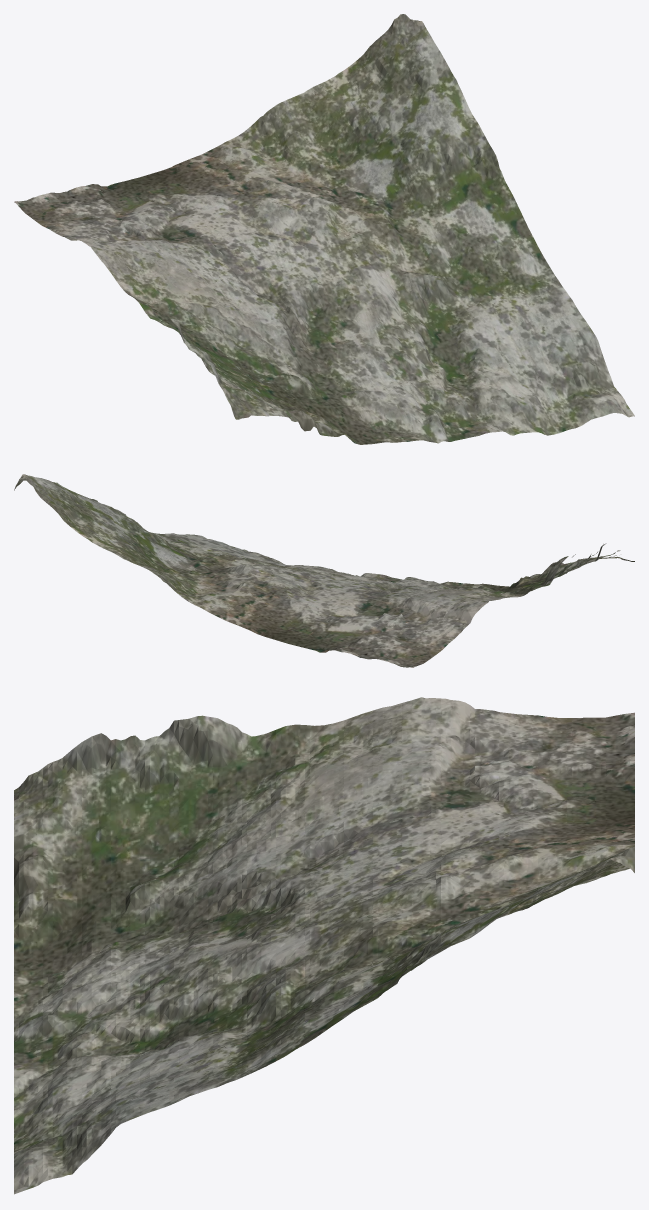
3 renders of one model, top to bottom at view 1: azimuth 30°, elevation 25°; view 2: azimuth 150°, elevation 25°; view 3: azimuth 270°, elevation 25°, orthographic. The views are drawn at different scales.
Bounding box in the file's own units: 500 × 292 × 481.
1 material, 1 textured.
